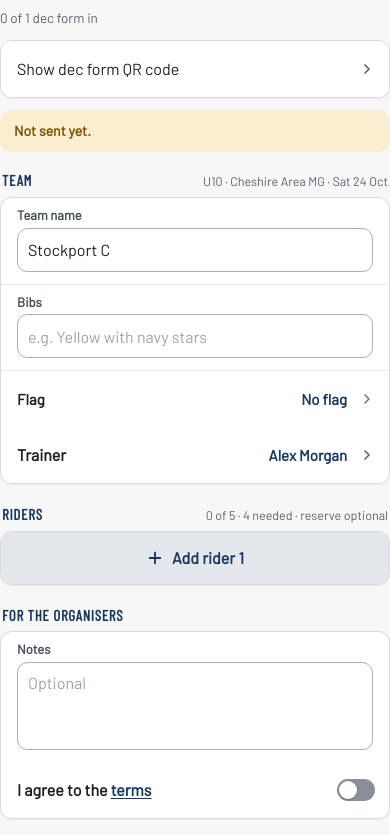
Test case: DeclarationsTab: the dec form › fills every field from a saved rider, leaves out anyone already in the team, and lets the name be changed
Click the button "Add rider 1". click: (195, 558)
box: top-left (1, 532), bottom-right (389, 584)
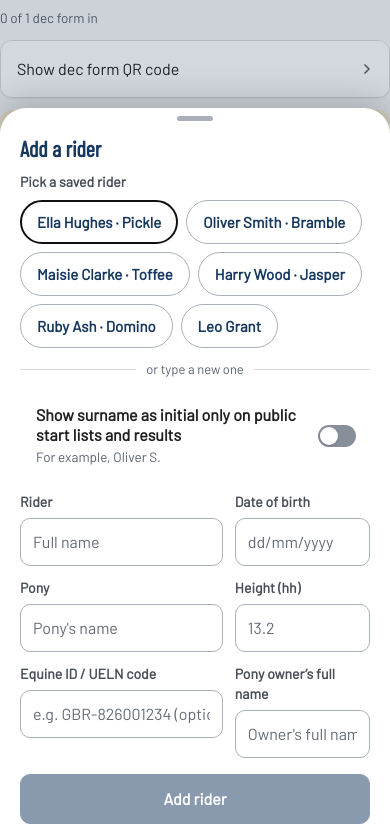
Click the button "Ella Hughes · Pickle". click: (99, 222)
box: top-left (20, 200), bottom-right (178, 244)
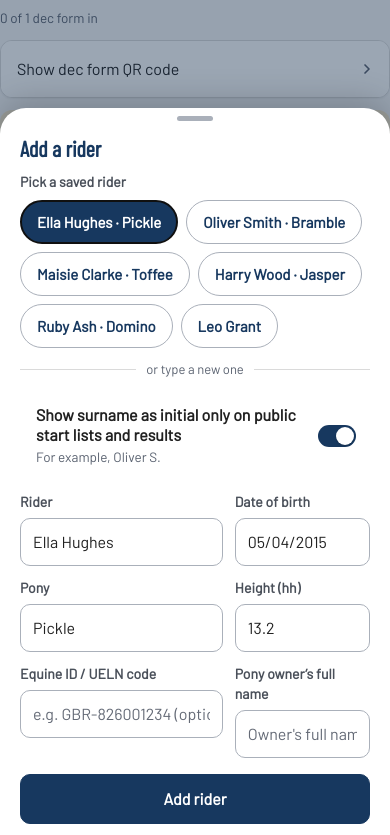
Result: the field labelled "Rider" holds "Ella Hughes" at top-left (33, 520), bottom-right (210, 564)
Result: the field labelled "Date of birth" holds "05/04/2015" at top-left (248, 520), bottom-right (357, 564)
Result: the field labelled "Pony" holds "Pickle" at top-left (33, 606), bottom-right (210, 650)
Click the button "Add rider". click: (195, 799)
box: top-left (20, 774), bottom-right (370, 824)
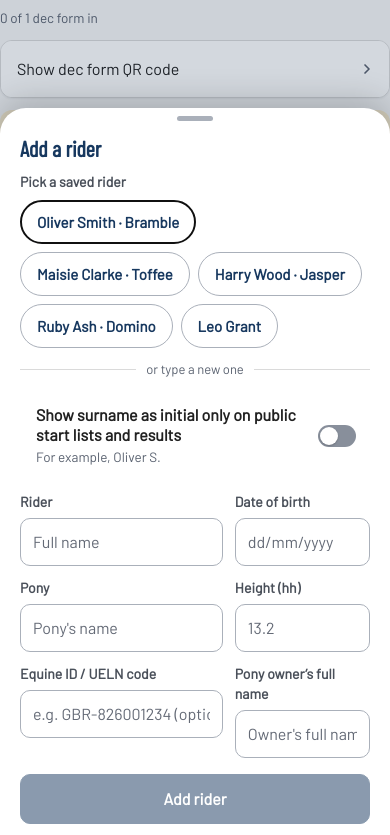
Result: the button "Oliver Smith · Bramble" is shown at top-left (20, 200), bottom-right (196, 244)
Result: the button "Ella Hughes · Pickle" is gone
